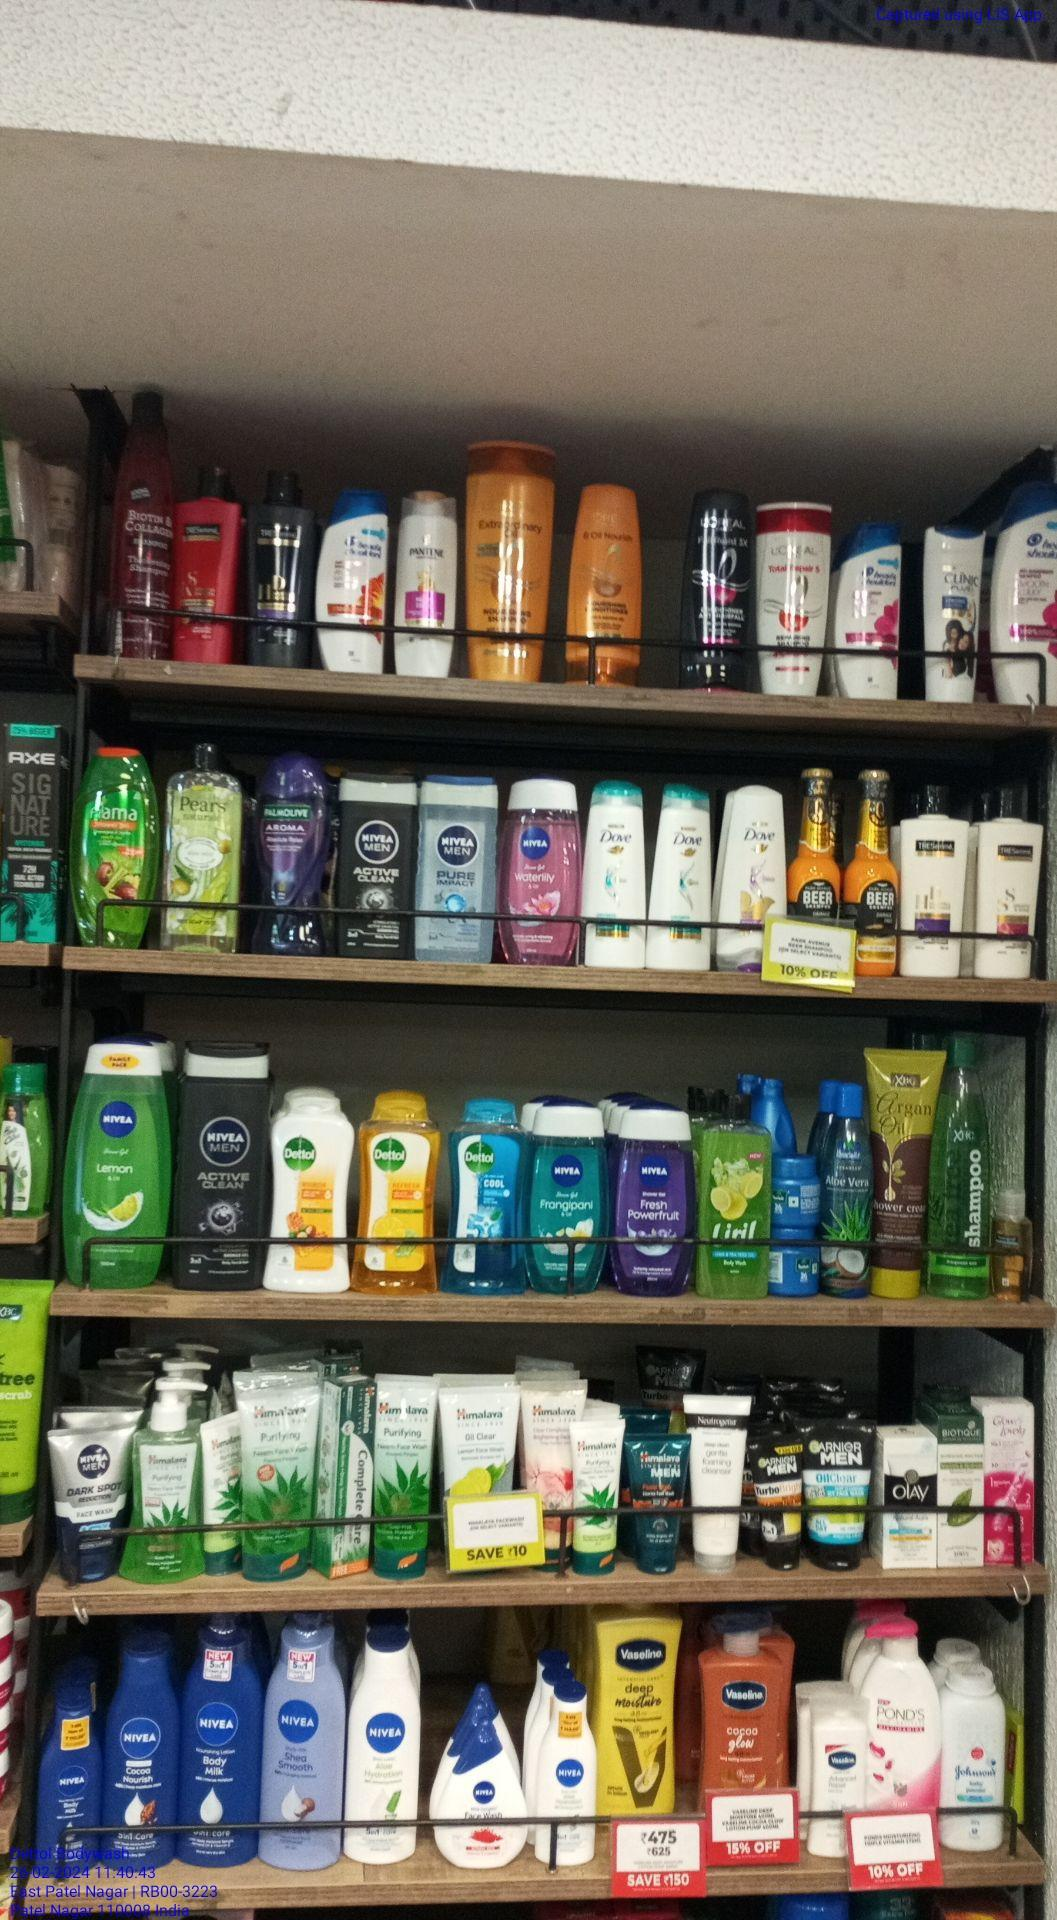Dettol_Bodywash_Cool: (446, 1096, 525, 1296)
Dettol_Bodywash_Refresh: (354, 1099, 437, 1295)
Dettol_Nourish_Body_Wash_250ML: (260, 1096, 351, 1291)
Nivea_Shower_Gel_Frangipani_and_Oil_250ML: (531, 1101, 605, 1291)
Nivea_Shower_Gel_Fresh_Powerfruit_250ML: (612, 1106, 691, 1295)
Nivea_Shower_Gel_Lemon_and_Oil_250ML: (62, 1036, 168, 1289)
